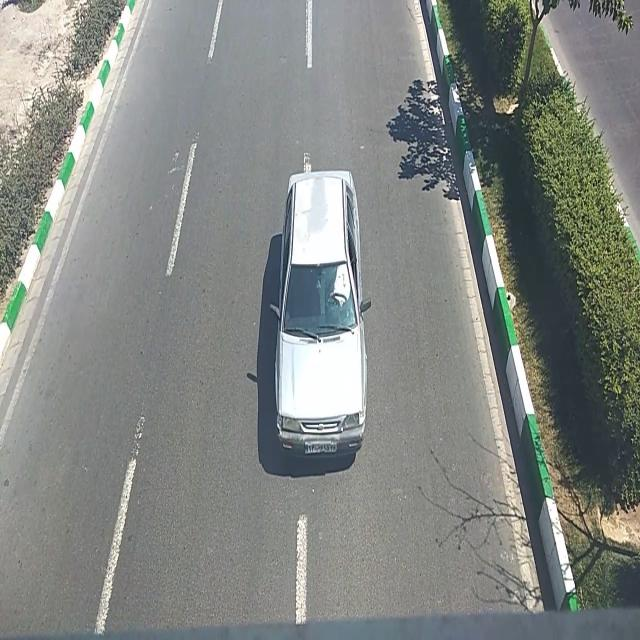car: (271, 164, 369, 455)
